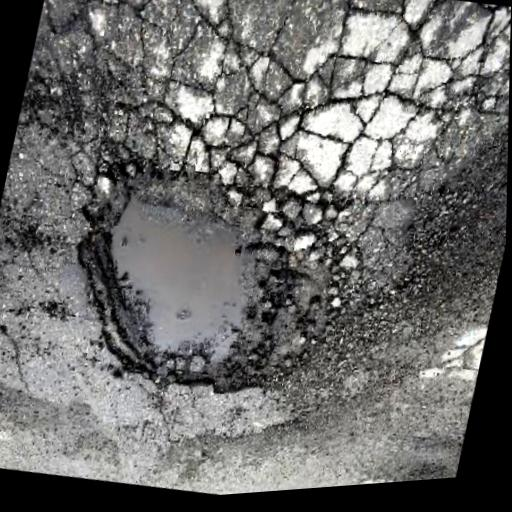pothole: (44, 123, 372, 435)
